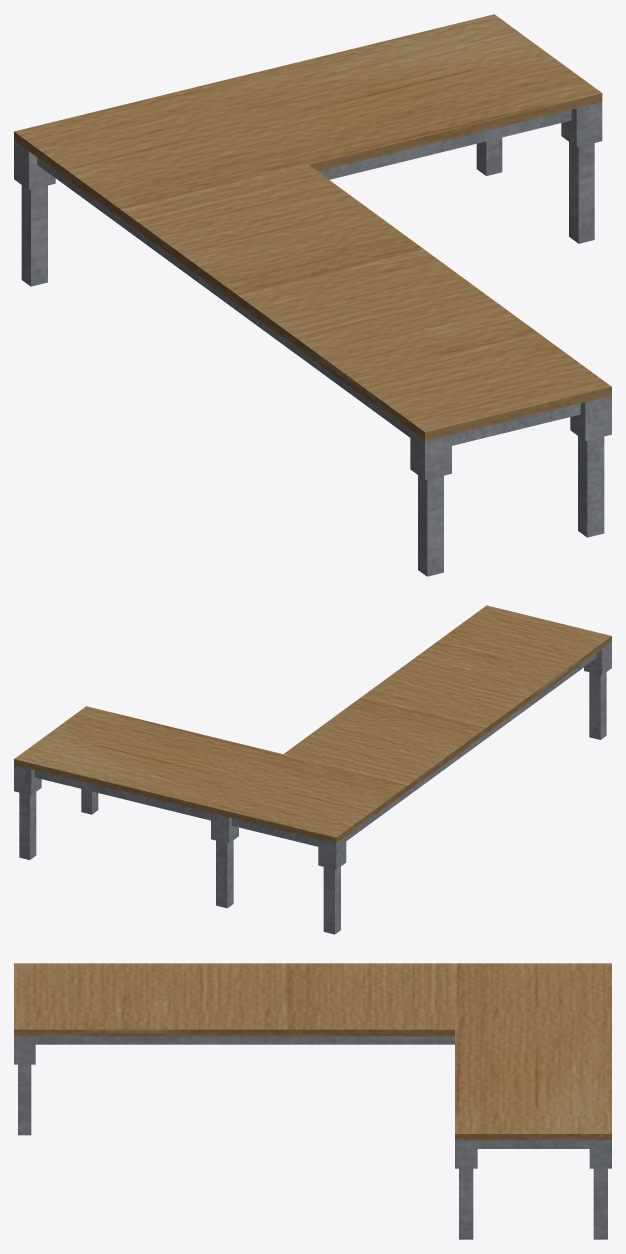
Rendered from L_Table.fbx.
3 views of the same model, one above another, from view 1: azimuth 30°, elevation 25°; view 2: azimuth 150°, elevation 25°; view 3: azimuth 270°, elevation 25° (orthographic). The views are drawn at different scales.
Visible parts, largest first — view 1: L Table; view 2: L Table; view 3: L Table.
Part boxes in pixels (x1,y1,x2,y2): L Table: [14, 14, 611, 576]; L Table: [14, 605, 611, 934]; L Table: [14, 963, 611, 1239].
Bounding box in the file's own units: 1388 × 407 × 2056.
1 material, 1 textured.
